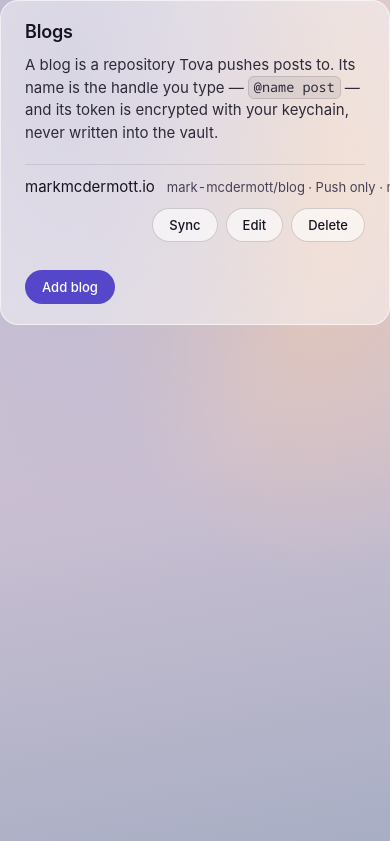
Test: BlogSection › will not save a blog that fails validation
This screenshot has width=390, height=841.
Click the button "Add blog": x=70, y=287 [25,270,115,304]
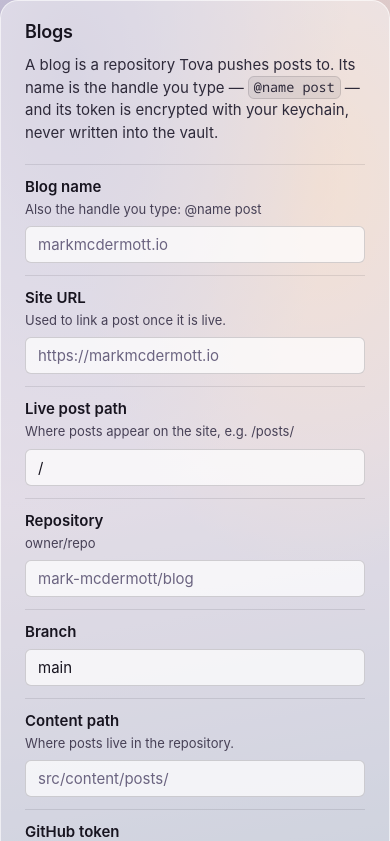
In the field labelled "Blog name": x=195, y=245 [25,226,365,263], type "two words"
(page scrolled)
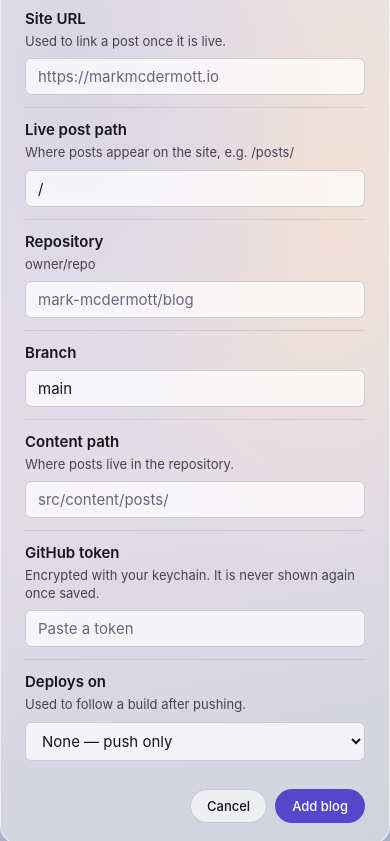
Click the button "Add blog": x=320, y=806 [275,788,365,822]
(page scrolled)
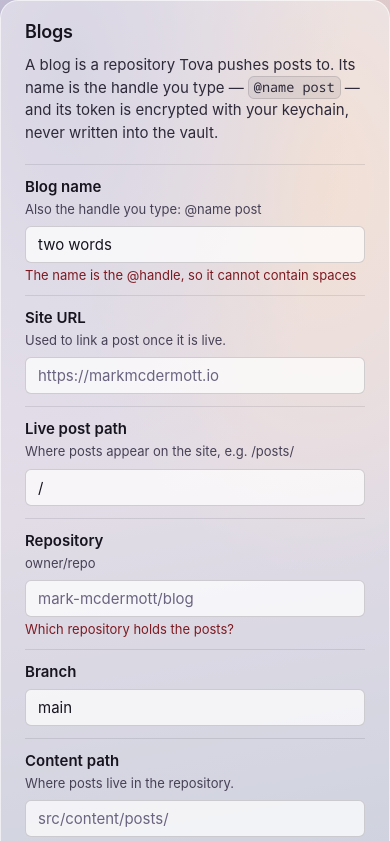
Expected: the text "The name is the @handle, so it cannot contain spaces" is shown, [25,267,365,283]
